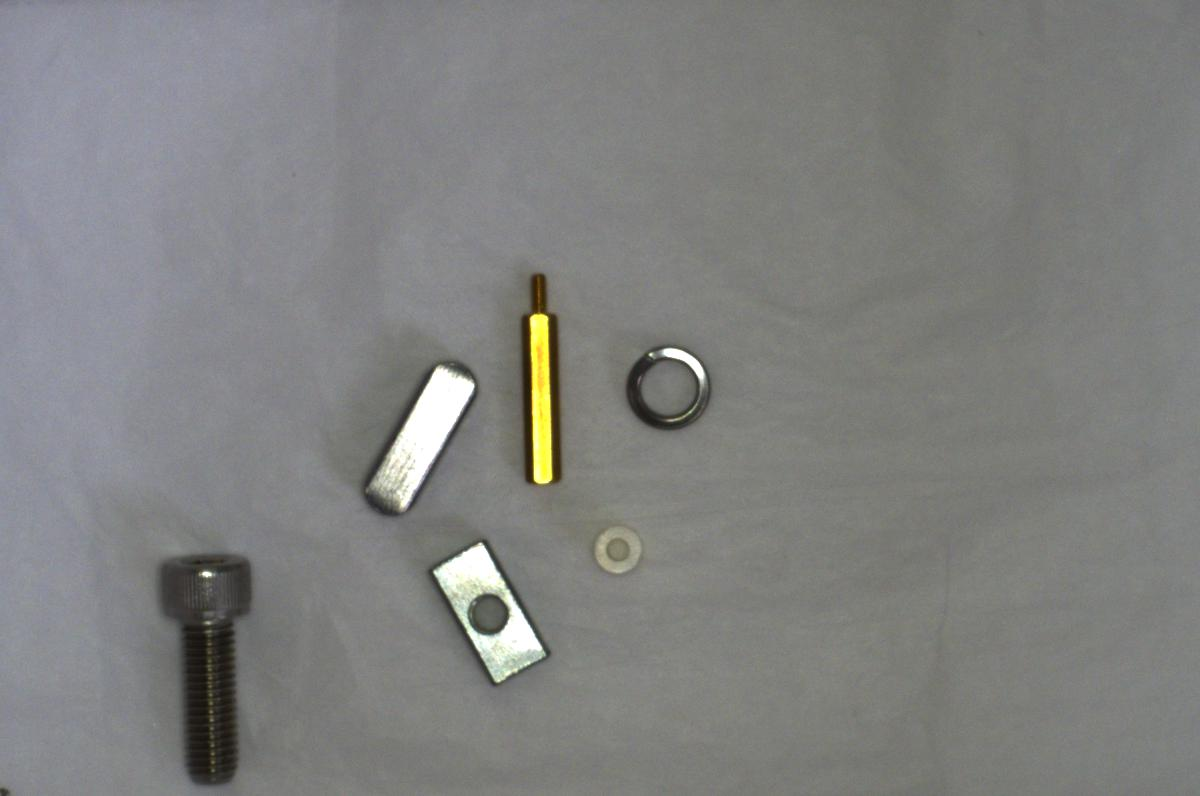Hexagon pillar: (510, 266, 571, 492)
Hexagon screw: (145, 545, 262, 794)
Keybar: (358, 348, 477, 514)
Plastic cushion pillar: (586, 520, 652, 579)
Rectangular nut: (425, 534, 557, 688)
Spring washer: (619, 336, 717, 438)
